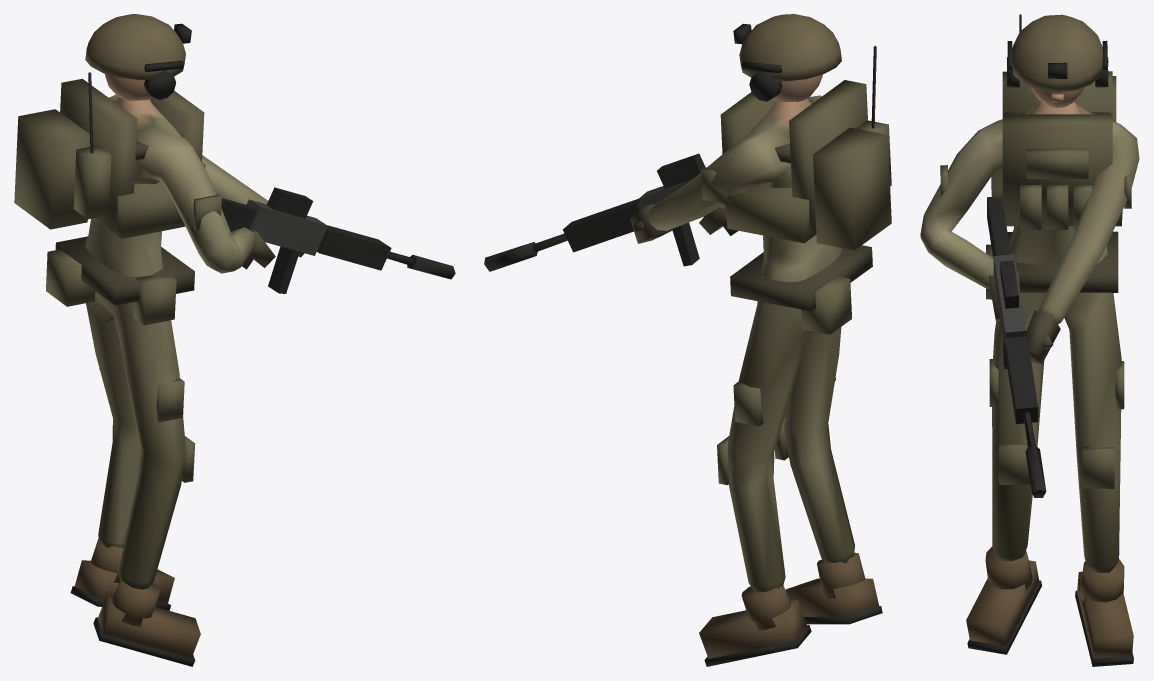
Rendered from soldier_stand_nato.glb.
3 views of the same model, side by side, from view 1: azimuth 30°, elevation 25°; view 2: azimuth 150°, elevation 25°; view 3: azimuth 270°, elevation 25° (orthographic). The views are drawn at different scales.
Parts seen in each view (by area): view 1: soldier; view 2: soldier; view 3: soldier.
Boxes of the visible parts, bbox=[...] form: soldier: bbox=[14, 14, 455, 666]; soldier: bbox=[484, 14, 891, 666]; soldier: bbox=[920, 14, 1139, 666].
Size of the model in its own units: 1.25 by 1.84 by 0.5895.
